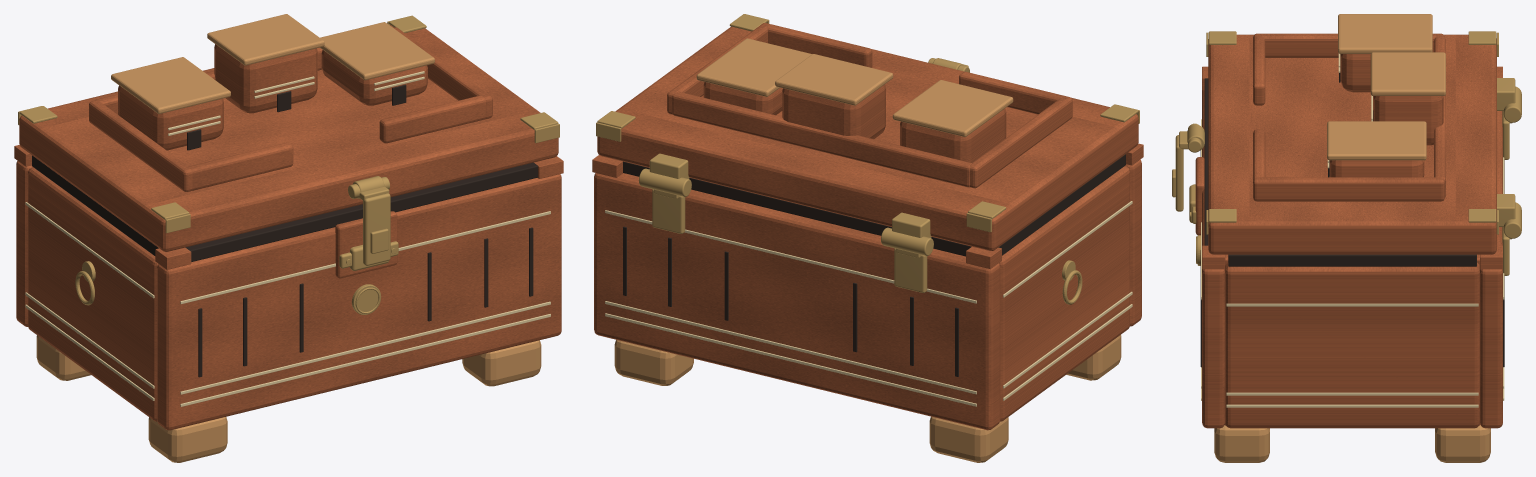
The model's file is burkina-faso.glb.
The picture shows the model from 3 angles, left to right: view 1: azimuth 30°, elevation 25°; view 2: azimuth 150°, elevation 25°; view 3: azimuth 270°, elevation 25°; orthographic projection.
Parts seen in each view (by area): view 1: Earth / front, Lid / polished slab, Earth / side, Seam / long, Courtyard / volume 1, Courtyard / roof 2, Courtyard / roof 0, Courtyard / roof 1, Courtyard / volume 0, Courtyard / enclosure side, Courtyard / entrance wing.001, Earth / foot (+17 smaller); view 2: Earth / rear, Lid / polished slab, Earth / side, Courtyard / enclosure rear, Courtyard / roof 0, Courtyard / roof 2, Courtyard / volume 1, Courtyard / roof 1, Seam / long.001, Courtyard / enclosure side, Courtyard / volume 0, Earth / foot.001 (+21 smaller); view 3: Lid / polished slab, Earth / side.001, Courtyard / enclosure side.001, Earth / rear, Earth / front, Courtyard / roof 2, Courtyard / roof 0, Courtyard / roof 1, Seam / side.001, Courtyard / volume 1, Courtyard / enclosure side, Earth / foot.002 (+22 smaller).
Boxes of the visible parts, x1,y1,x2,y2 form: Earth / front: [157, 174, 561, 430]; Lid / polished slab: [19, 25, 558, 251]; Earth / side: [28, 167, 158, 421]; Seam / long: [185, 162, 537, 261]; Courtyard / volume 1: [214, 44, 317, 113]; Courtyard / roof 2: [320, 22, 434, 80]; Courtyard / roof 0: [111, 57, 230, 113]; Courtyard / roof 1: [207, 14, 324, 65]; Courtyard / volume 0: [118, 85, 223, 150]; Courtyard / enclosure side: [89, 100, 192, 191]; Courtyard / entrance wing.001: [379, 95, 485, 143]; Earth / foot: [148, 417, 227, 462]; Earth / rear: [594, 173, 1000, 430]; Lid / polished slab: [597, 26, 1138, 250]; Earth / side: [999, 166, 1129, 421]; Courtyard / enclosure rear: [672, 91, 971, 187]; Courtyard / roof 0: [892, 80, 1013, 136]; Courtyard / roof 2: [696, 38, 811, 96]; Courtyard / volume 1: [782, 84, 885, 138]; Courtyard / roof 1: [775, 54, 893, 105]; Seam / long.001: [623, 161, 971, 256]; Courtyard / enclosure side: [970, 96, 1072, 188]; Courtyard / volume 0: [900, 108, 1006, 162]; Earth / foot.001: [929, 416, 1008, 462]; Lid / polished slab: [1208, 34, 1496, 254]; Earth / side.001: [1225, 262, 1479, 428]; Courtyard / enclosure side.001: [1253, 177, 1444, 201]; Earth / rear: [1480, 111, 1502, 428]; Earth / front: [1202, 90, 1225, 428]; Courtyard / roof 2: [1327, 121, 1426, 160]; Courtyard / roof 0: [1338, 14, 1432, 53]; Courtyard / roof 1: [1370, 52, 1445, 95]; Seam / side.001: [1228, 254, 1476, 266]; Courtyard / volume 1: [1373, 96, 1443, 145]; Courtyard / enclosure side: [1253, 33, 1444, 57]; Earth / foot.002: [1214, 425, 1269, 462].
Bounding box in the file's own units: 3.8 × 2.8 × 2.88.
Materials: 5 (1 with a texture image).
